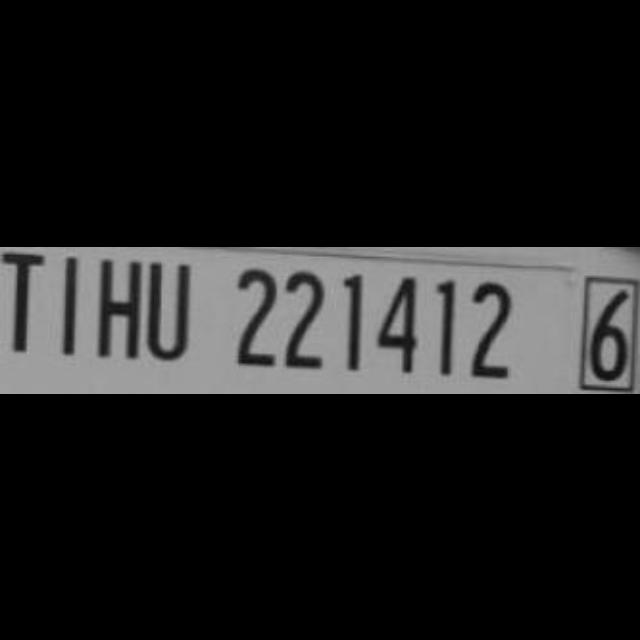1: (428, 266, 462, 379), (340, 264, 368, 378)
2: (228, 260, 284, 368), (280, 262, 330, 376), (466, 268, 516, 382)
4: (374, 266, 422, 378)
6: (572, 276, 640, 390)
h: (94, 246, 148, 362)
i: (54, 246, 88, 358)
t: (0, 246, 54, 364)
u: (146, 246, 198, 366)
